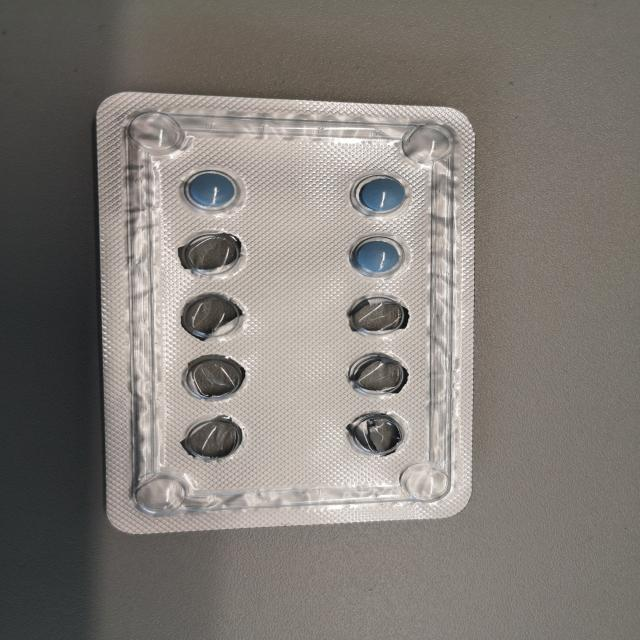Empty: (176, 229, 251, 279), (176, 292, 252, 341), (178, 354, 250, 401), (177, 415, 247, 462), (344, 350, 409, 398), (344, 410, 410, 456), (344, 293, 411, 337)
Pill: (180, 168, 244, 213), (349, 172, 409, 218), (347, 234, 407, 278)
